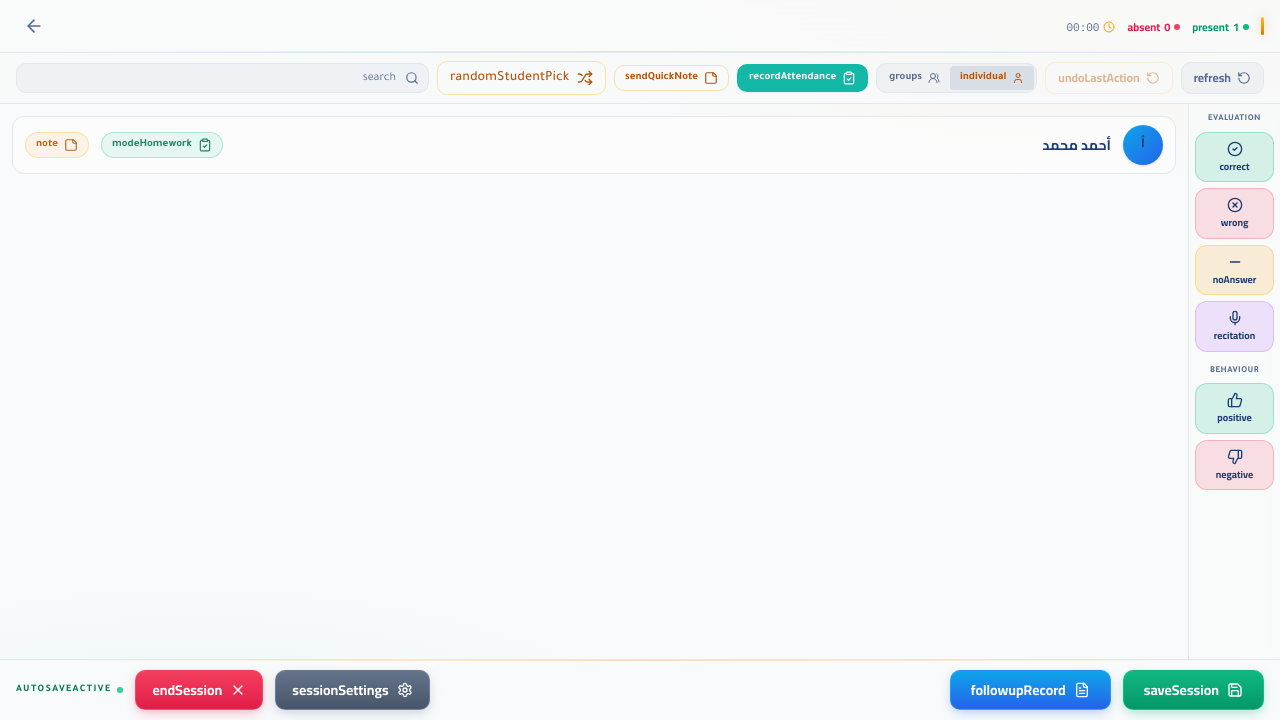
Test: recitation popover offers exactly the allowed attempts when max_attempts=1
Click the button "أ أحمد محمد modeHomework note".
click(1143, 145)  # box [12,116,1176,174]
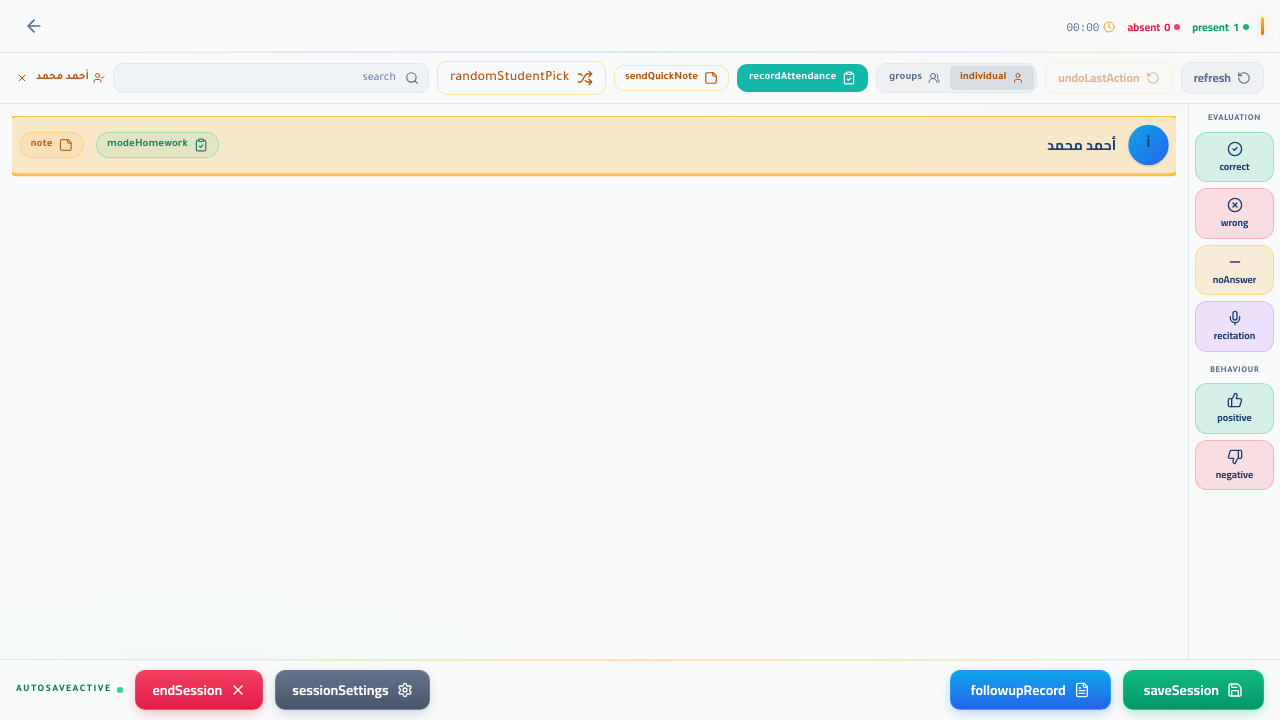
Click the button "recitation".
click(1234, 326)  # box [1195,301,1274,352]
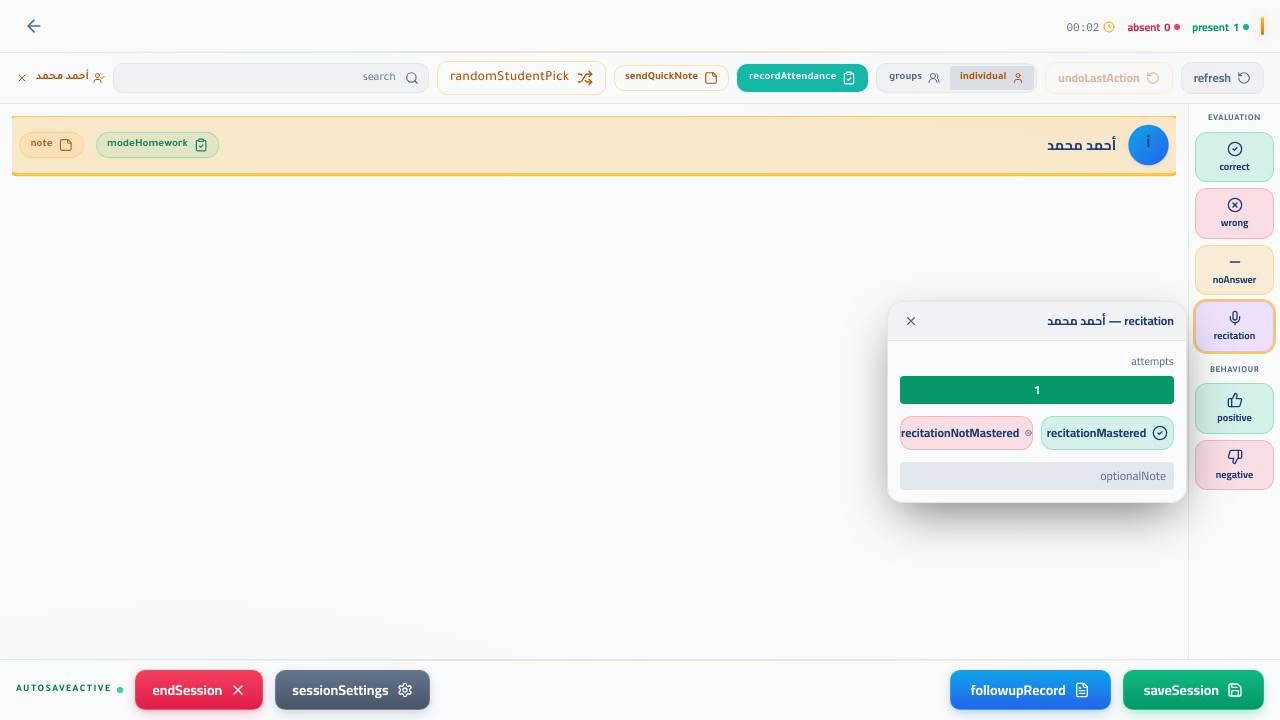
Expected: the dialog is shown, [887,301,1187,502]
